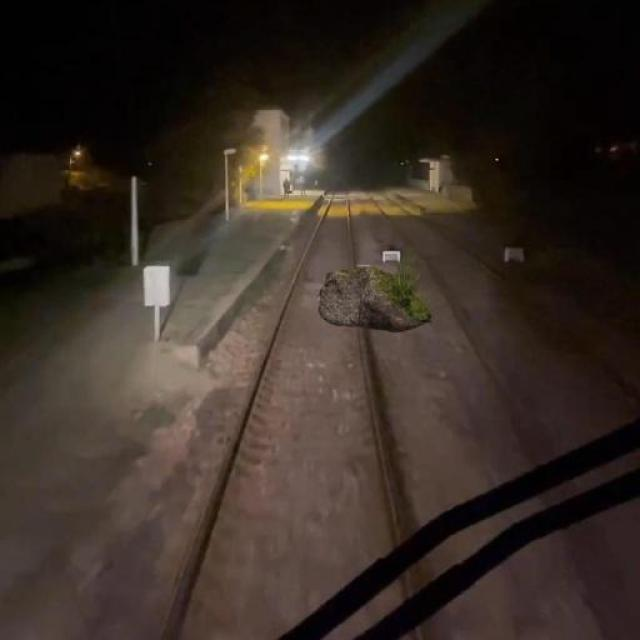Stone: (316, 267, 435, 341)
people: (281, 172, 295, 198)
